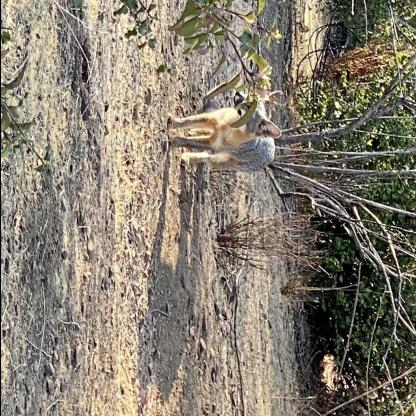zorro: (158, 90, 284, 178)
